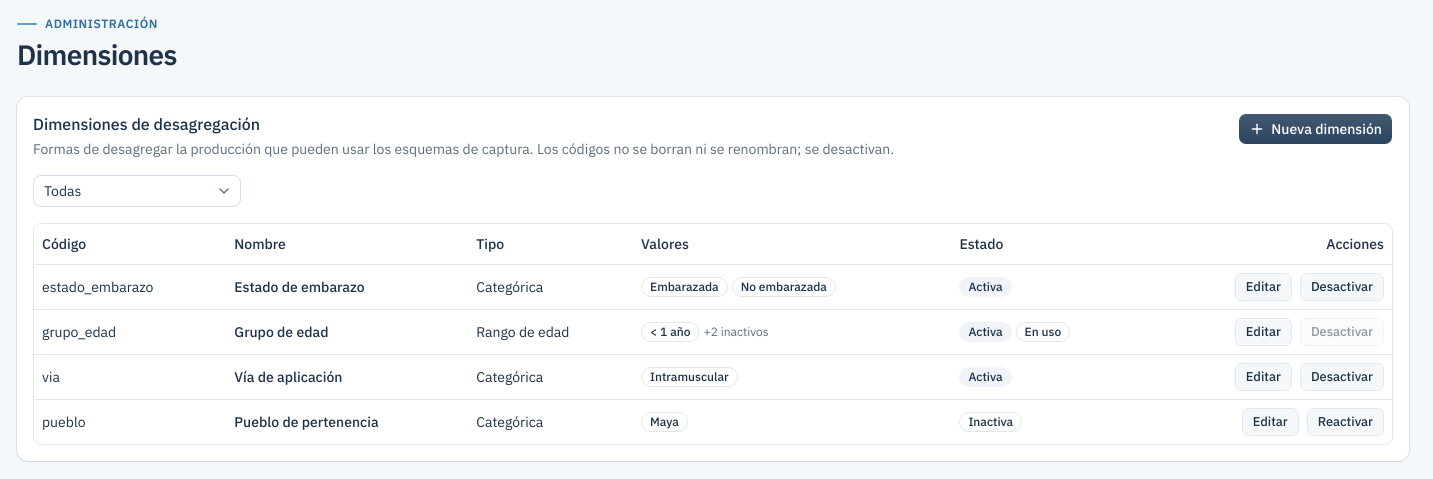
Test: acciones › "Desactivar" está deshabilitado en una dimensión en uso, con el motivo en un Tooltip
This screenshot has width=1433, height=479.
Focus the element showing "Desactivar" at (1342,332), box [1300,318,1384,346]
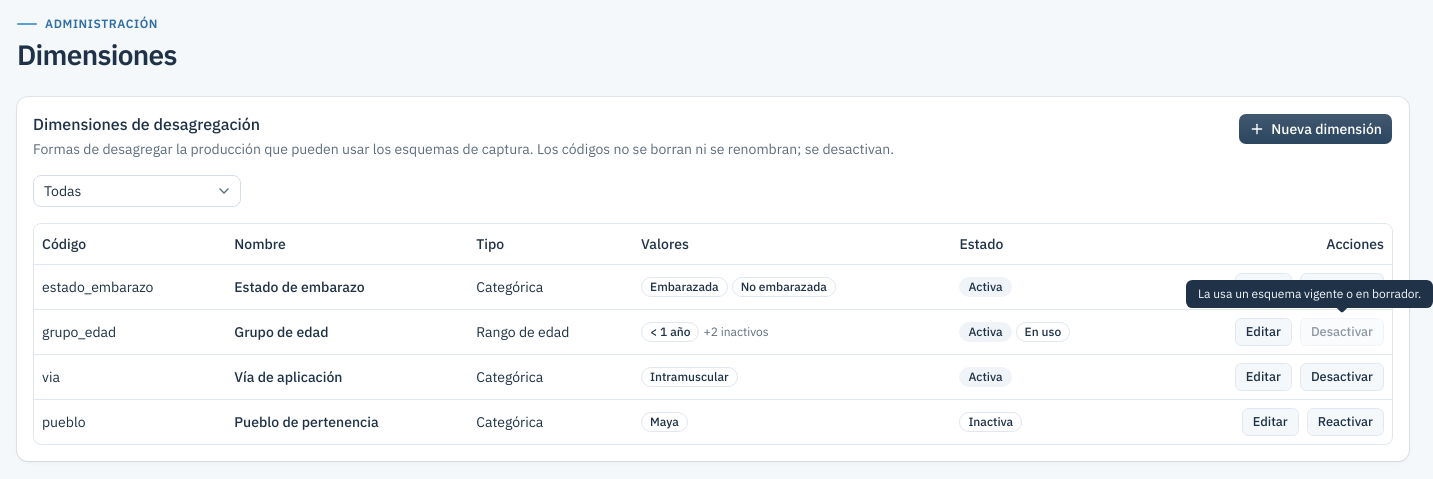
Expected: the button with aria-label "Desactivar via" is enabled, [1300,363,1384,391]
Now the tooltip "La usa un esquema vigente o en borrador." is shown, box [1186,280,1432,308]
